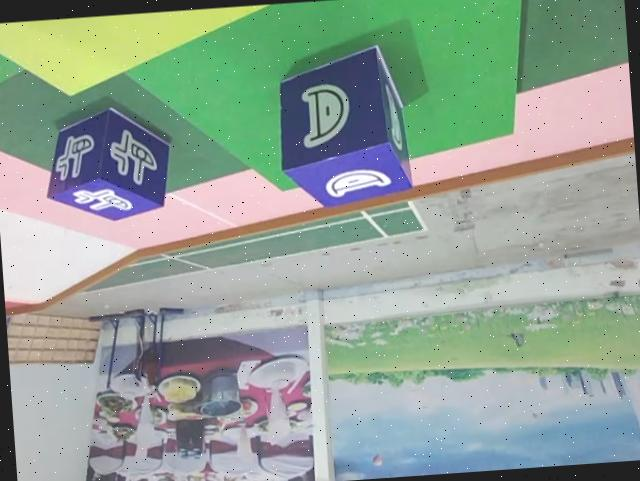R2 Real Blue: (274, 42, 414, 211), (41, 99, 177, 222)
